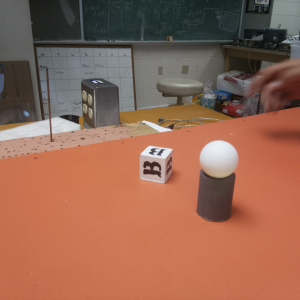blockB: (137, 144, 177, 185)
obstacle: (195, 136, 239, 224)
